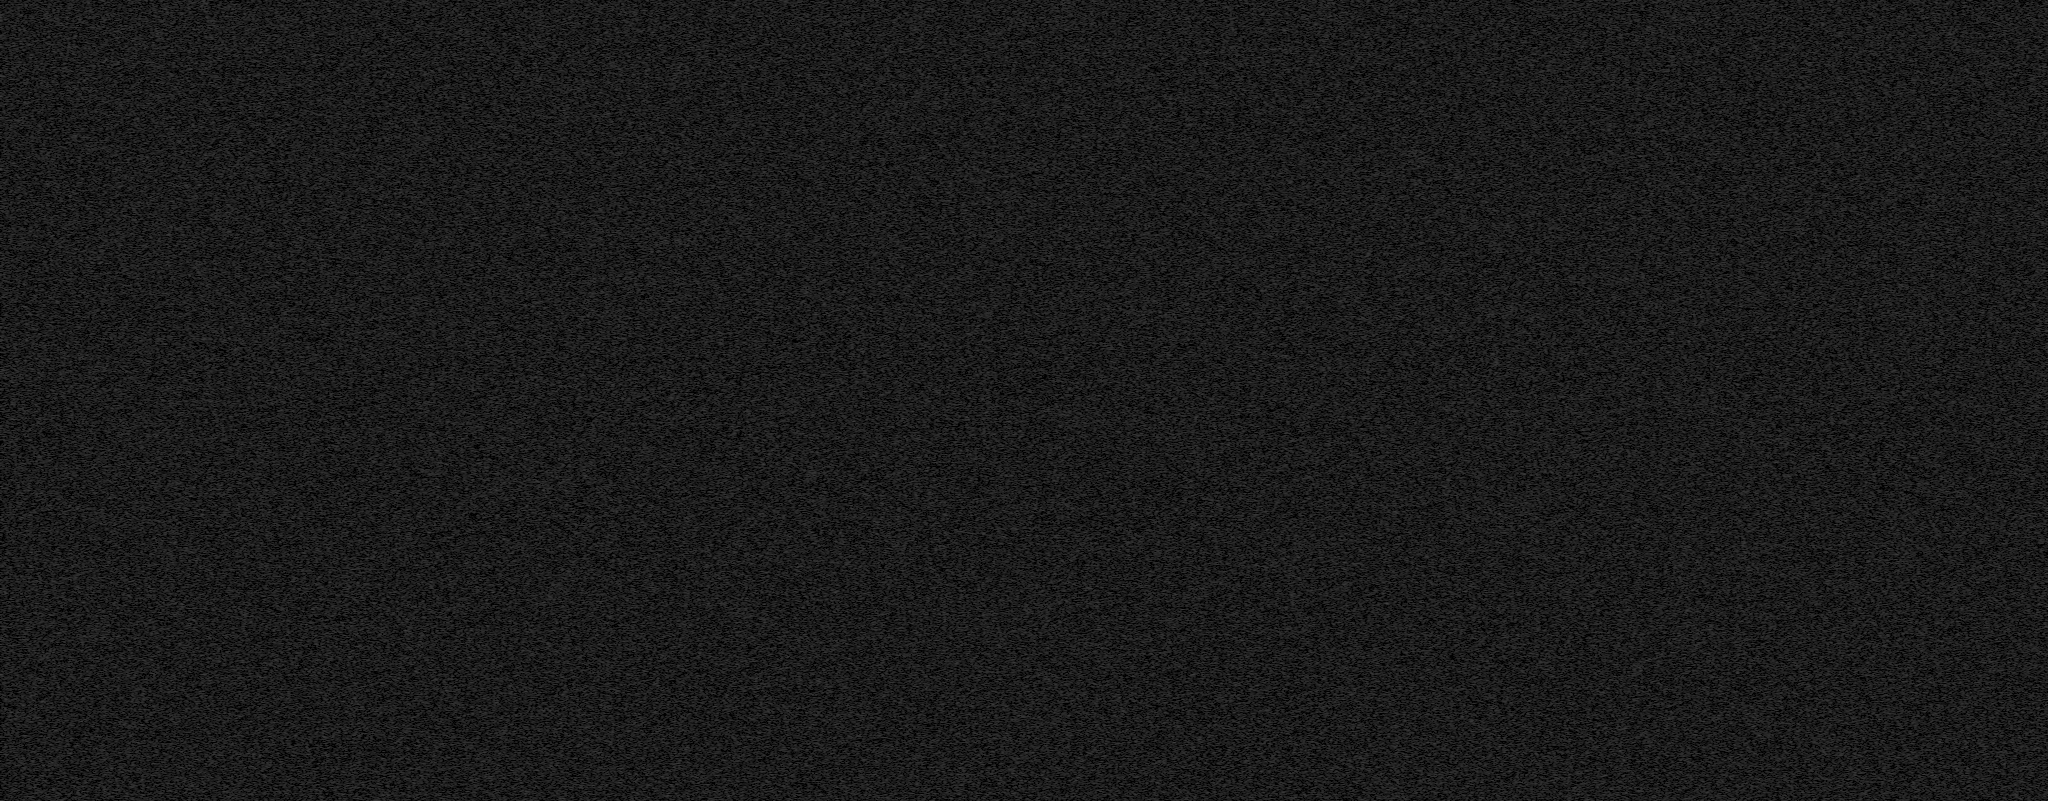wv_cw: (1669, 0, 1674, 800)
wv_lsb: (40, 715, 44, 800), (40, 214, 44, 287), (40, 289, 44, 344), (40, 372, 44, 419), (138, 208, 142, 239), (138, 581, 142, 609), (138, 180, 142, 206), (40, 351, 44, 372), (40, 472, 44, 493), (40, 128, 44, 146), (40, 189, 44, 206), (40, 31, 44, 48), (138, 416, 142, 433), (40, 68, 44, 84), (40, 48, 44, 64), (40, 14, 44, 30), (138, 474, 142, 490), (138, 340, 142, 355), (138, 293, 142, 308), (138, 111, 142, 127), (40, 683, 44, 699), (138, 619, 142, 634), (138, 240, 142, 255), (138, 703, 142, 717), (40, 622, 44, 636), (40, 514, 44, 527), (138, 376, 142, 388), (40, 700, 44, 712), (40, 502, 44, 514), (40, 429, 44, 440), (40, 115, 44, 125), (138, 389, 142, 400), (138, 169, 142, 179), (138, 72, 142, 82), (40, 659, 44, 669), (40, 105, 44, 114), (138, 433, 142, 442), (138, 325, 142, 335), (138, 128, 142, 137), (138, 48, 142, 57), (40, 153, 44, 161), (40, 84, 44, 91), (138, 642, 142, 649), (138, 531, 142, 538), (138, 457, 142, 465), (138, 740, 142, 747), (138, 367, 142, 375), (138, 355, 142, 363), (138, 268, 142, 276), (138, 84, 142, 91), (40, 605, 44, 613), (40, 566, 44, 574), (40, 555, 44, 563), (40, 450, 44, 457), (40, 421, 44, 429), (138, 757, 142, 763), (40, 206, 44, 213), (40, 171, 44, 178), (138, 635, 142, 642), (138, 558, 142, 564), (138, 510, 142, 516), (138, 497, 142, 503), (138, 405, 142, 412), (138, 319, 142, 325), (138, 691, 142, 698), (40, 579, 44, 585), (40, 528, 44, 534), (138, 679, 142, 686), (138, 774, 142, 779), (40, 345, 44, 350), (40, 95, 44, 101), (40, 9, 44, 14), (138, 660, 142, 665), (138, 747, 142, 753), (138, 521, 142, 527), (138, 277, 142, 282), (138, 256, 142, 261), (138, 146, 142, 152), (138, 10, 142, 16), (40, 672, 44, 677), (40, 597, 44, 602), (138, 668, 142, 672), (40, 4, 44, 8), (138, 615, 142, 619), (138, 612, 142, 615), (138, 571, 142, 575), (138, 548, 142, 551), (138, 504, 142, 508), (138, 469, 142, 473), (138, 450, 142, 453), (138, 443, 142, 447), (138, 730, 142, 734), (138, 335, 142, 338), (138, 314, 142, 318), (138, 263, 142, 267), (138, 165, 142, 169), (138, 158, 142, 162), (138, 153, 142, 157), (138, 142, 142, 146), (138, 101, 142, 105), (138, 95, 142, 99), (138, 38, 142, 42), (138, 27, 142, 31), (40, 649, 44, 653), (40, 542, 44, 546), (40, 497, 44, 500), (138, 674, 142, 677), (40, 163, 44, 166), (138, 289, 142, 291), (138, 724, 142, 727), (138, 139, 142, 141), (138, 59, 142, 61), (138, 699, 142, 702), (138, 7, 142, 9), (40, 642, 44, 644), (40, 615, 44, 618), (40, 575, 44, 578), (40, 468, 44, 470), (40, 459, 44, 461), (40, 444, 44, 447)
